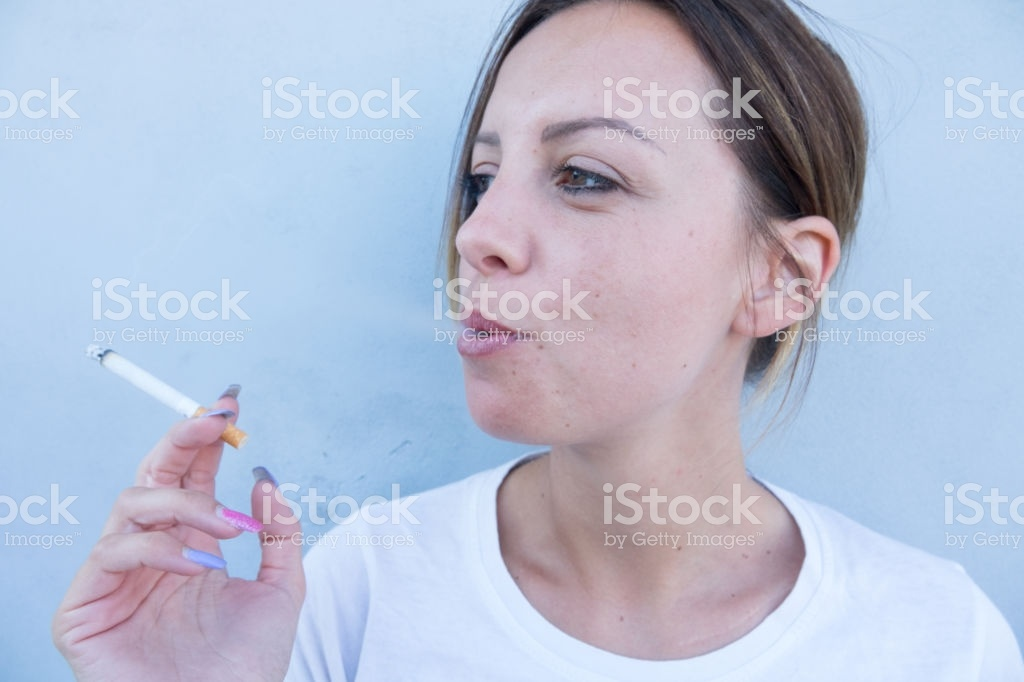sigaretta: (87, 345, 244, 445)
